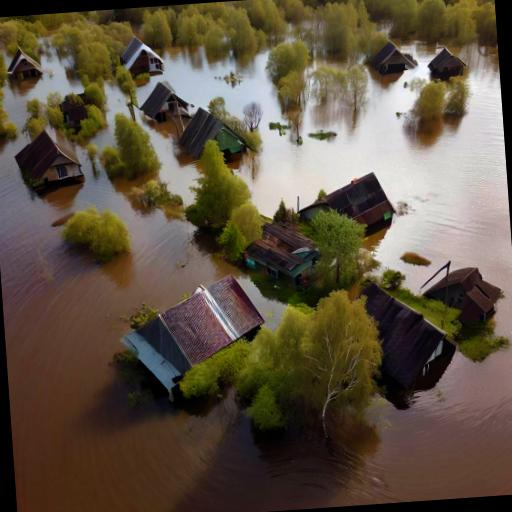flood: (0, 41, 512, 512), (2, 51, 80, 127), (136, 114, 198, 205), (90, 82, 126, 150)
house: (112, 270, 268, 392), (360, 278, 466, 402), (238, 211, 328, 290), (299, 168, 396, 239), (417, 256, 507, 328), (14, 124, 83, 192), (175, 104, 246, 168), (138, 78, 182, 126), (120, 36, 164, 80), (368, 38, 416, 74), (427, 42, 468, 83), (6, 48, 42, 86)
